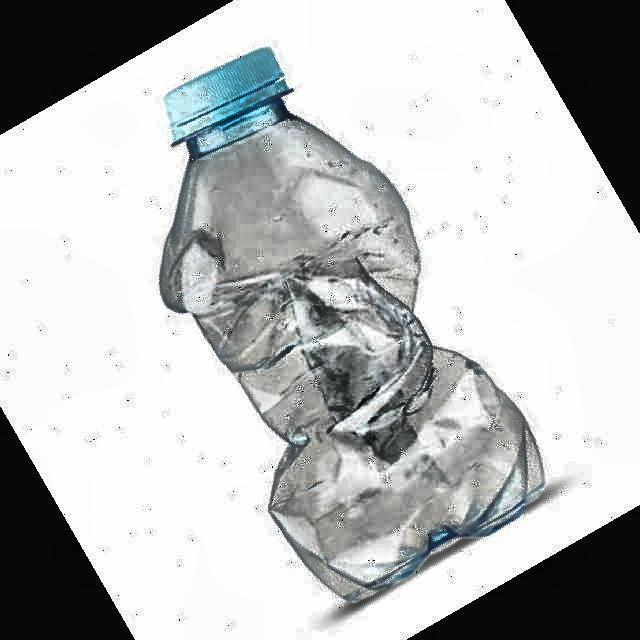plastic: (160, 49, 544, 602)
